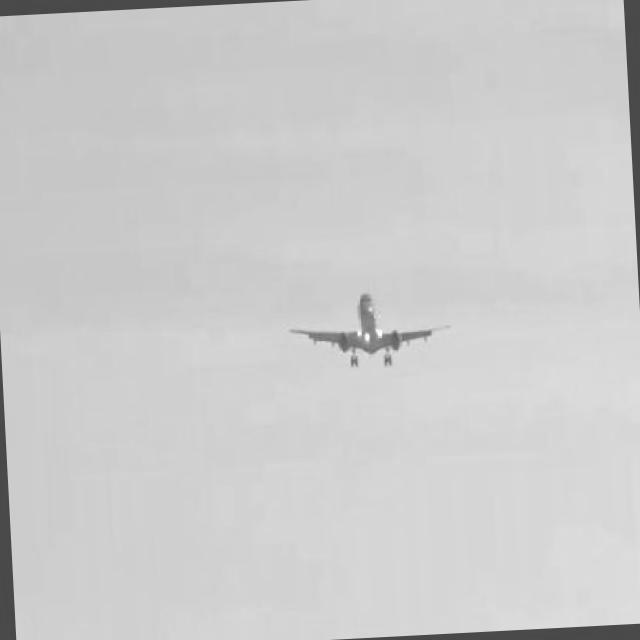aeroplane: (288, 288, 452, 370)
